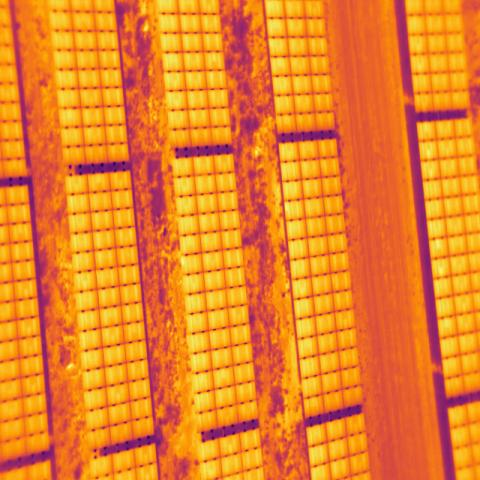fault: (180, 253, 204, 276)
